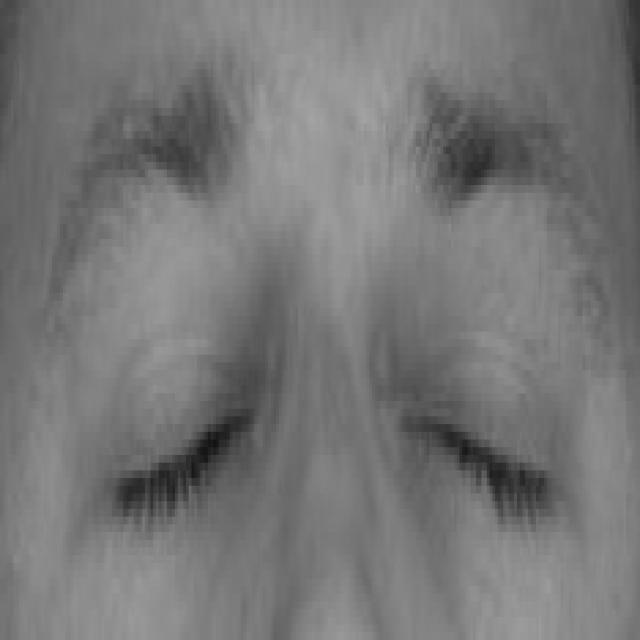real: (55, 166, 608, 598)
